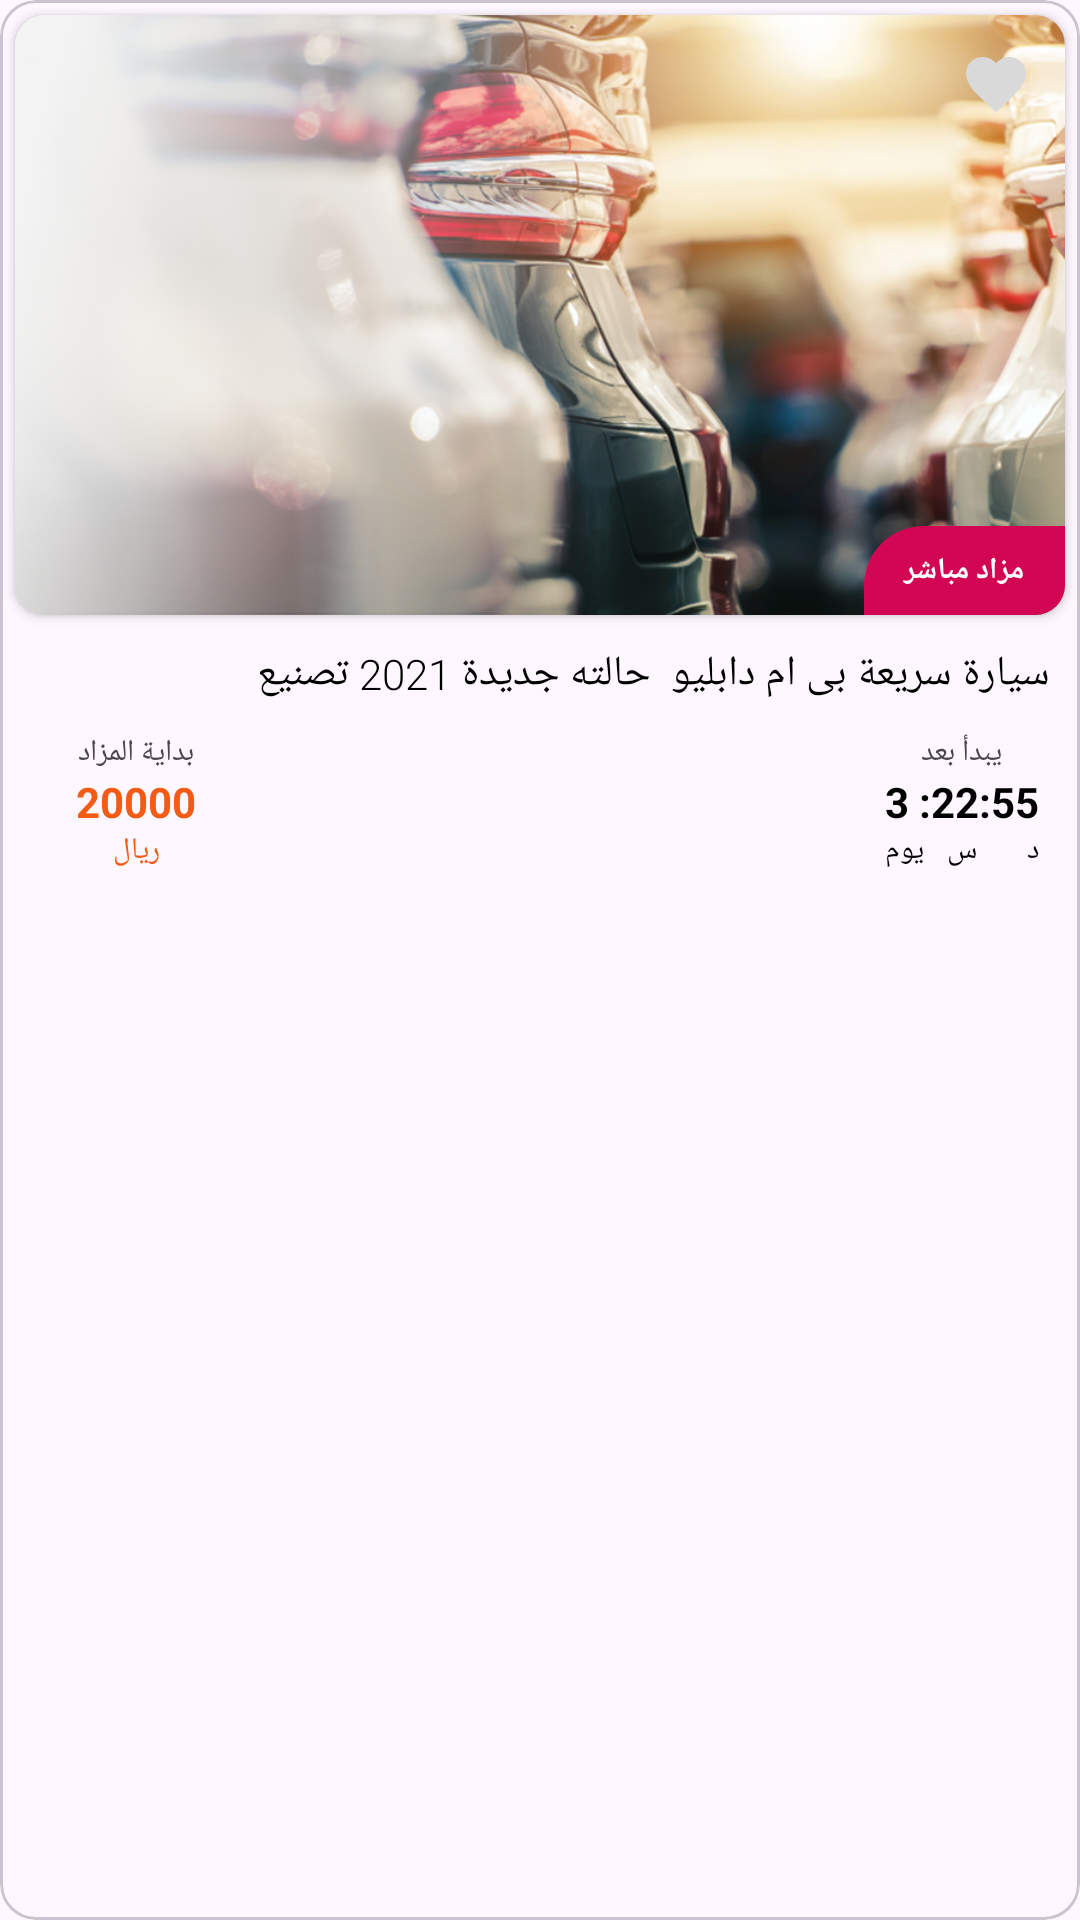

Point at icon controls on the screen. Image size 1080px x 1920px, points as point (x, y).
favorite: point (996, 84)
